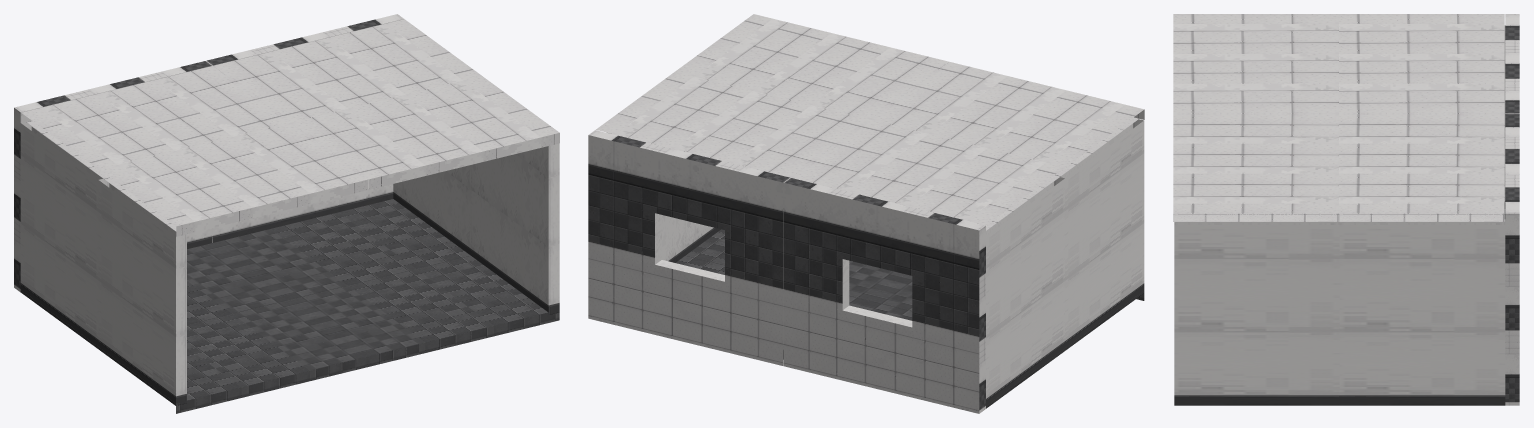
The model's file is Office 1.fbx.
The picture shows the model from 3 angles, left to right: view 1: azimuth 30°, elevation 25°; view 2: azimuth 150°, elevation 25°; view 3: azimuth 270°, elevation 25°; orthographic projection. The views are drawn at different scales.
Parts seen in each view (by area): view 1: SM_Floor_004; view 2: SM_Floor_004; view 3: SM_Floor_004.
Part boxes in pixels (x1=…): SM_Floor_004: x1=14, y1=14, x2=559, y2=413; SM_Floor_004: x1=588, y1=14, x2=1144, y2=413; SM_Floor_004: x1=1173, y1=14, x2=1519, y2=405.
Bounding box in the file's own units: 54.44 × 39.88 × 25.47.
